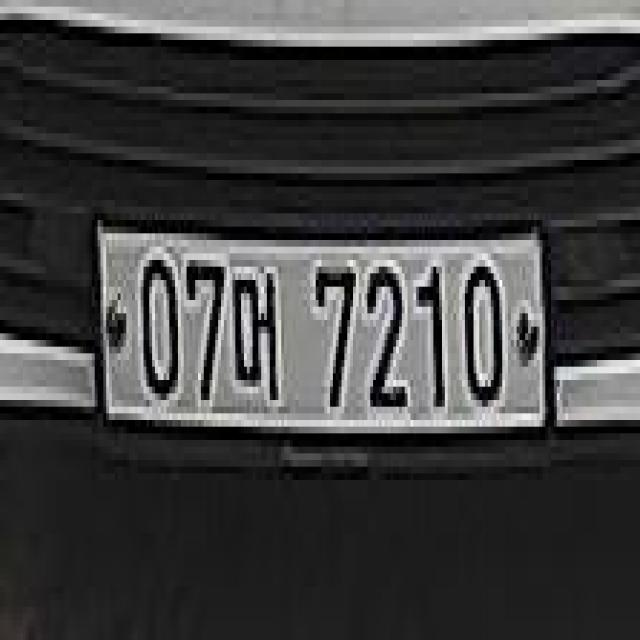illegal_plate: (91, 205, 553, 482)
